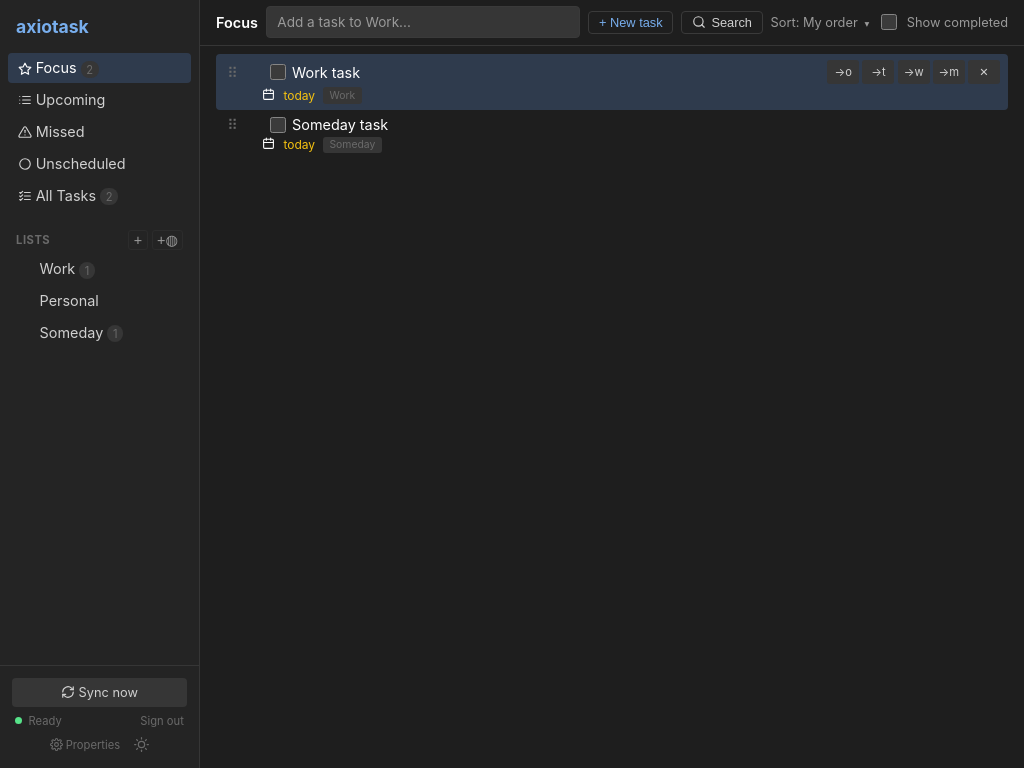
Test: GH#15: List Exclusion from Smart Views › Right-click toggle › excluding a list hides its tasks from Focus view
This screenshot has width=1024, height=768.
Expected: the text "Work task" is shown, [292,64,360,81]
Expected: the text "Someday task" is shown, [292,116,388,133]
Right-click Someday list → Exclude
Right-click the button "Someday 1".
right_click(110, 332)  # box [30,318,191,347]
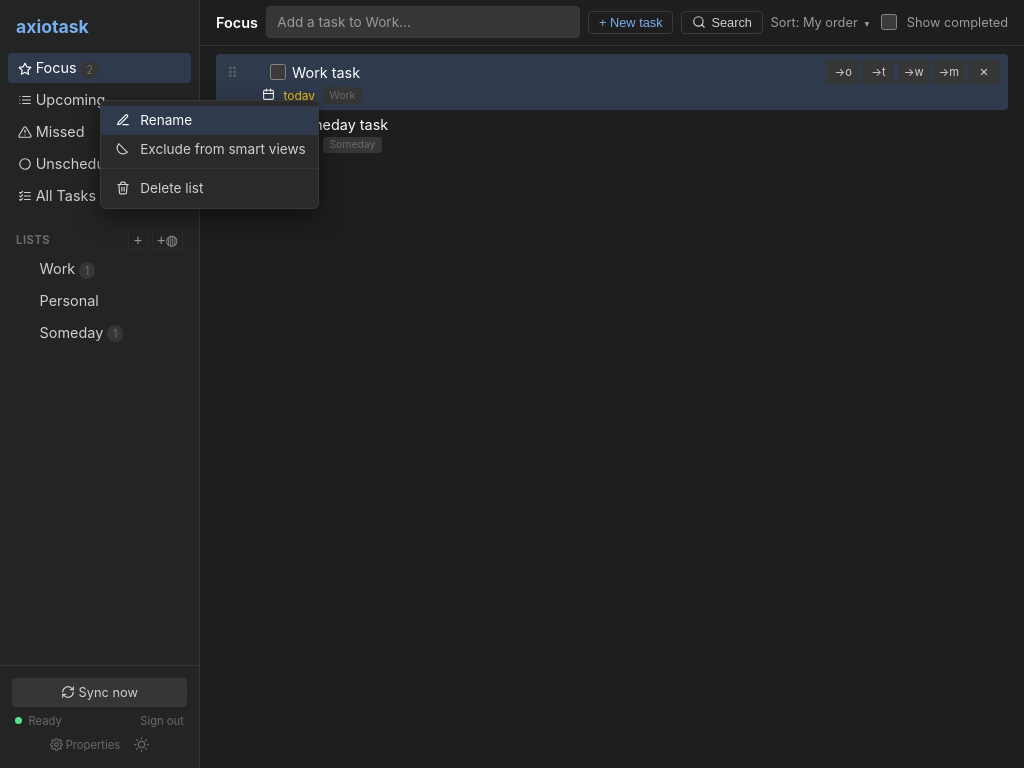
Result: the text "Exclude from smart views" is shown
Click the text "Exclude from smart views".
click(223, 149)  # box [140,141,306,157]
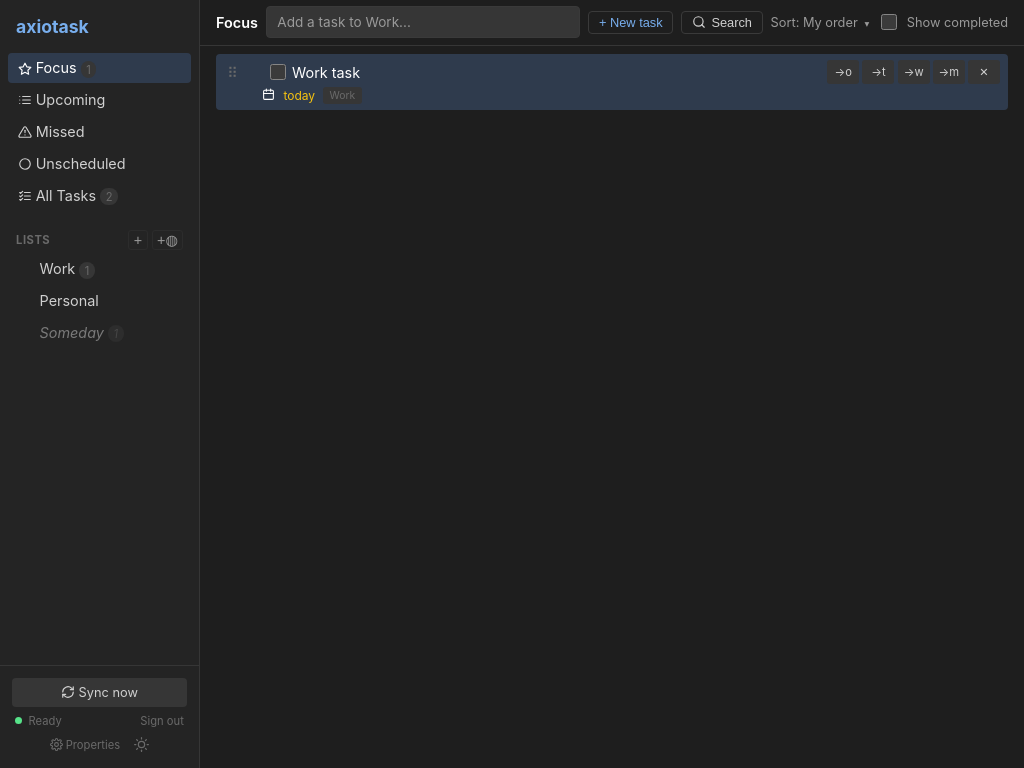
Expected: the text "Work task" is shown, [292,64,360,81]
Result: the text "Someday task" is gone
